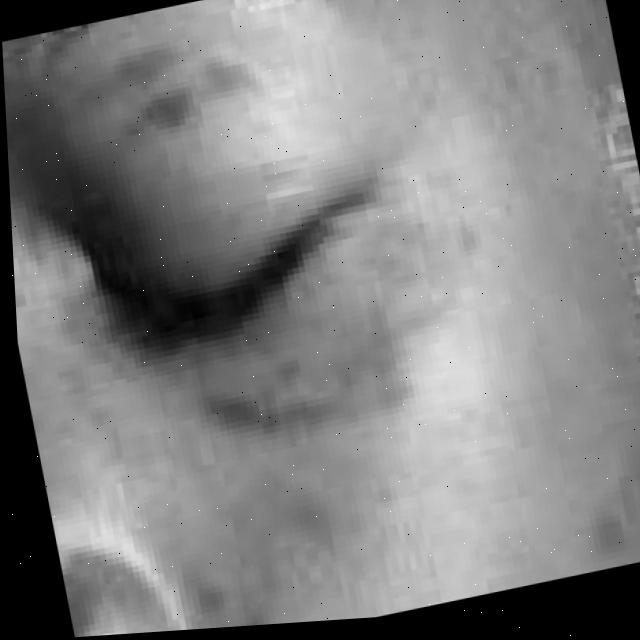Melasma: (247, 221, 475, 455), (135, 33, 255, 139)
